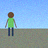person: (5, 12, 16, 36)
